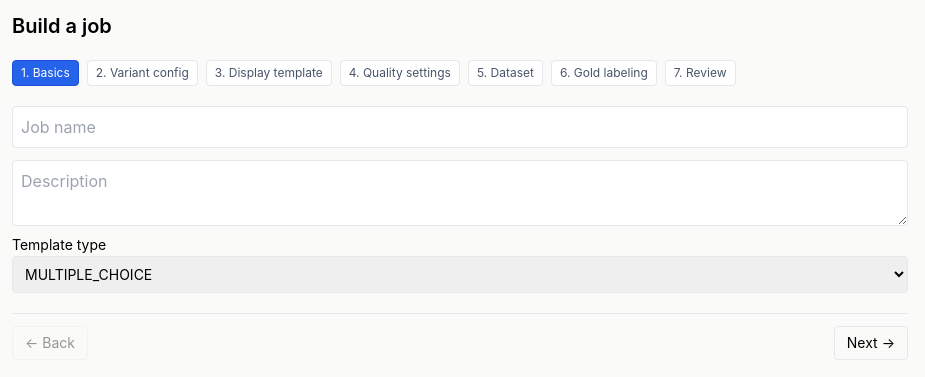
Scenario: JobBuilder wizard › walks through basics → variant config and reflects schema-driven fields
Type "My job" into the field with placeholder "Job name" at (460, 127), box [12,106,908,148]
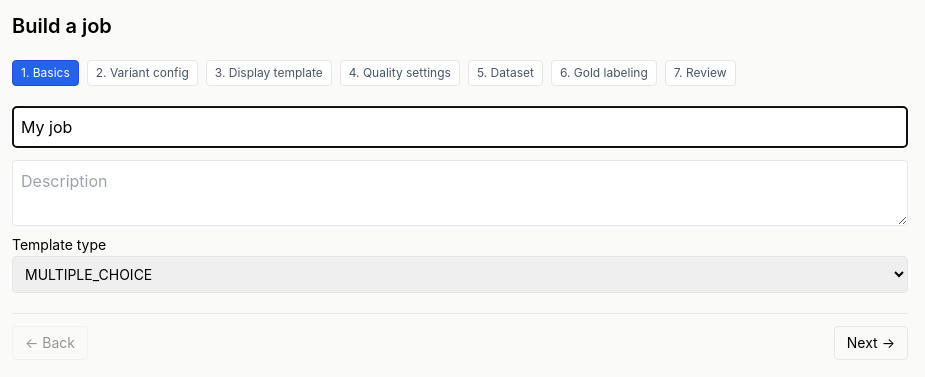
# Advance to the variant config step.
Click the button "2. Variant config" at (142, 73), box [87,60,198,86]
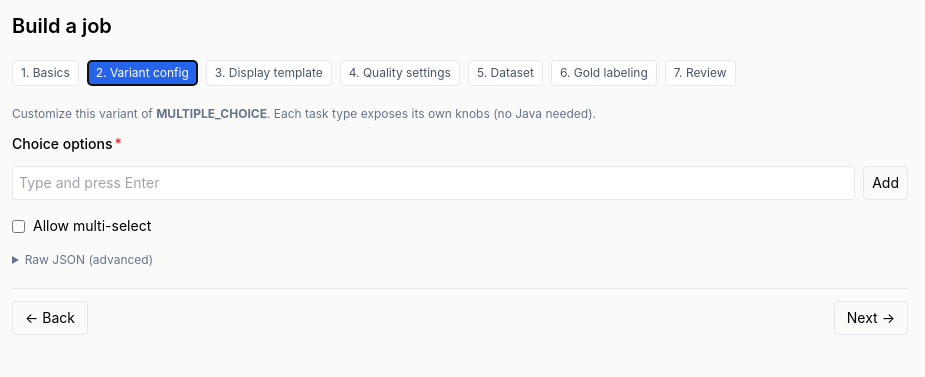
expect the text "Choice options" is shown: met, box [12,135,112,152]
expect the text "Allow multi-select" is shown: met, box [12,217,151,234]
